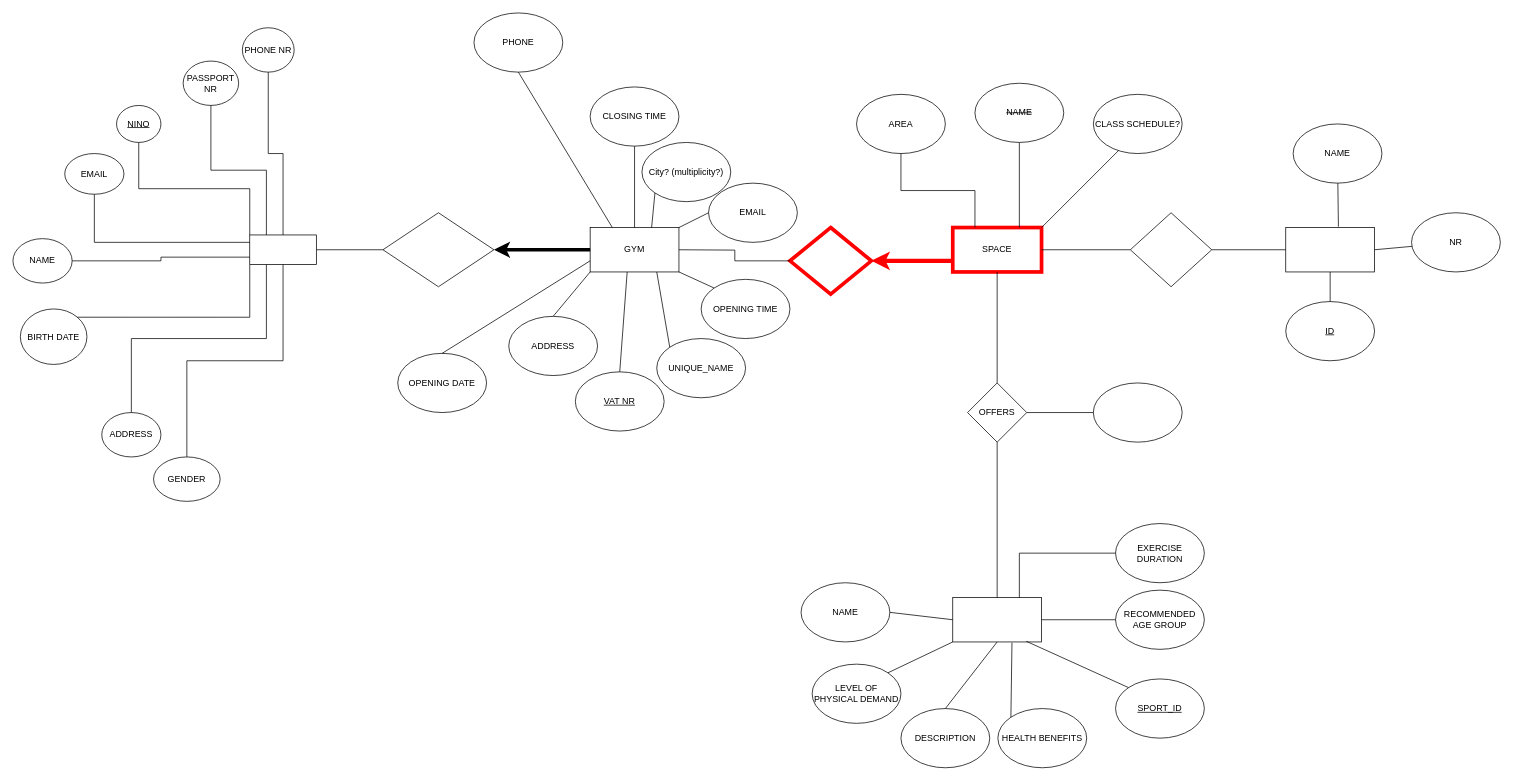
This 1513x781 diagram has some shape labels left out. The shapes that lost their labels are listed below. From the top down, each one's centre as x and y in pixels, then its label:
At point 282,249: "MANAGER".
At point 438,249: "MANAGE".
At point 830,260: "HAS".
At point 1171,249: "INCLUDES".
At point 1330,249: "EQUIPMENT".
At point 1137,412: "CAPACITY".
At point 997,619: "SPORT".
